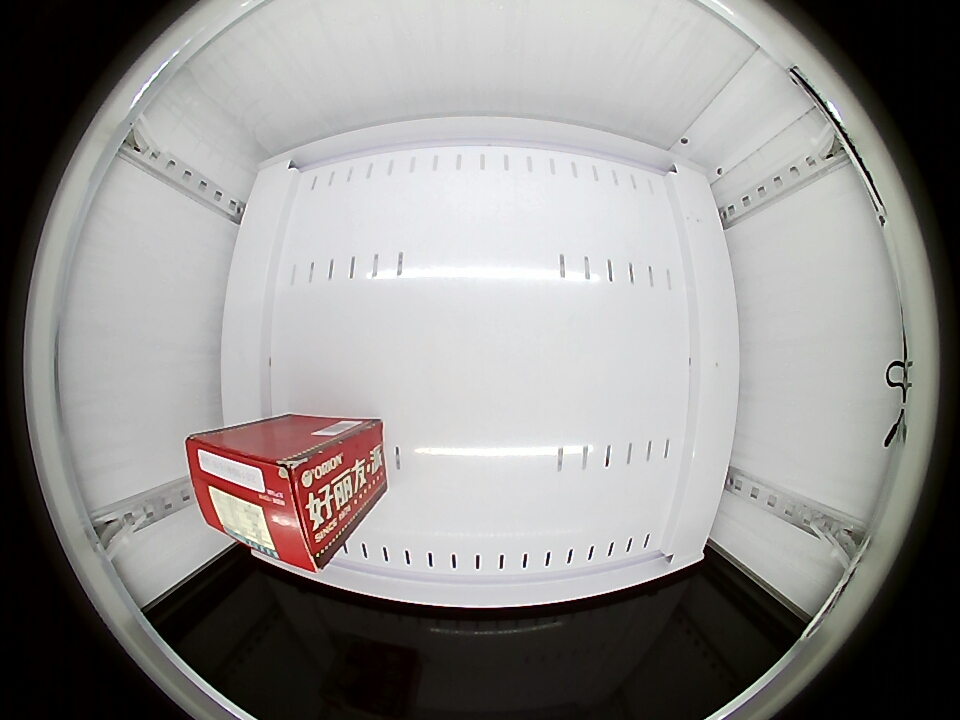haoliyou: (185, 425, 347, 574)
